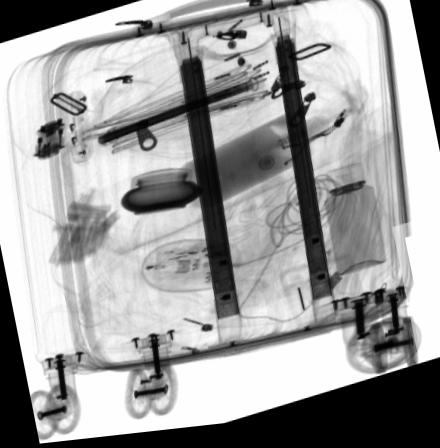Sprayer: (323, 170, 385, 284)
